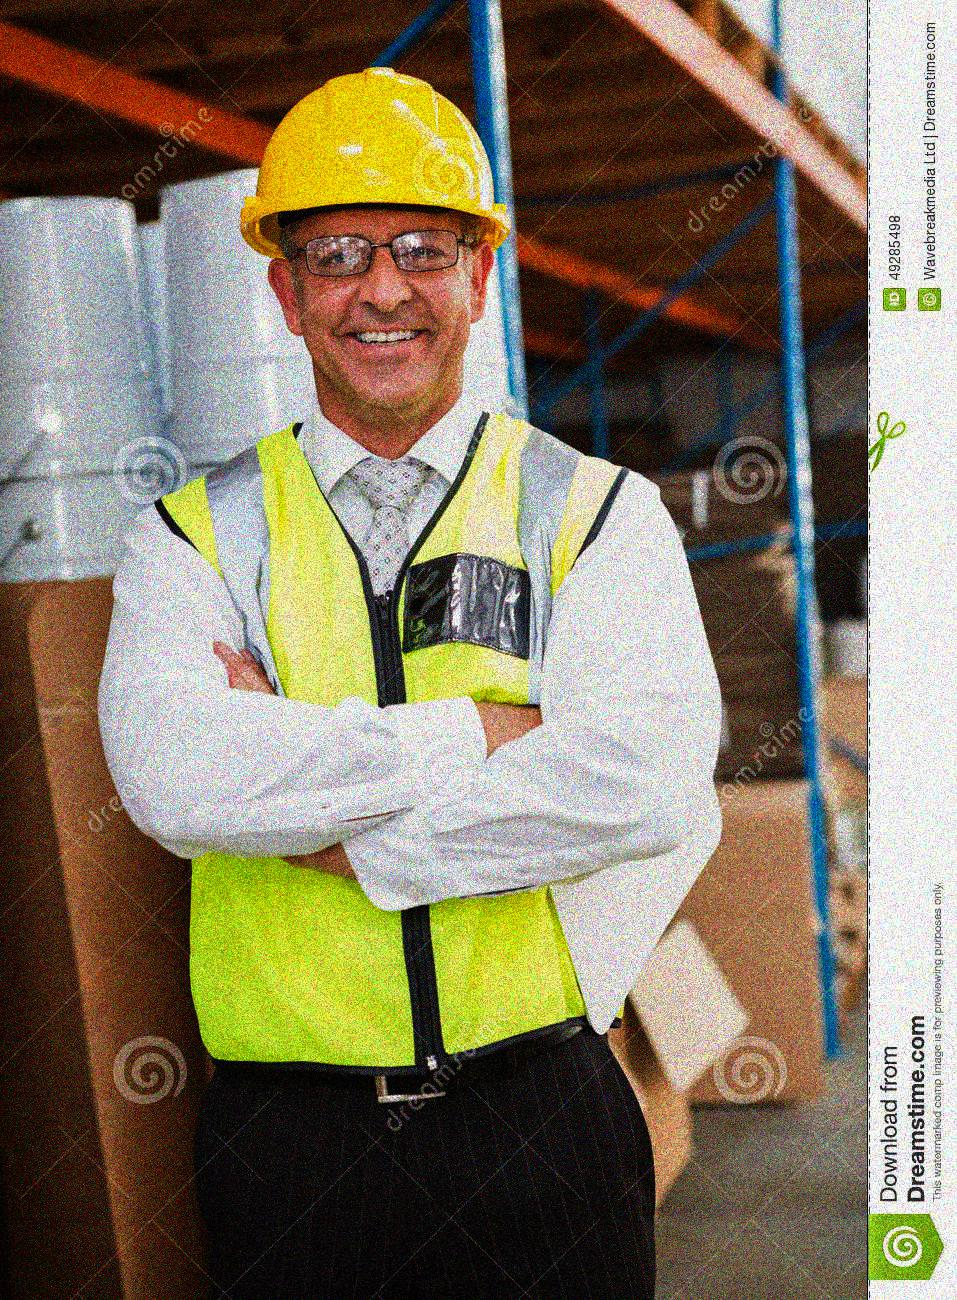helmet: (239, 66, 507, 420)
